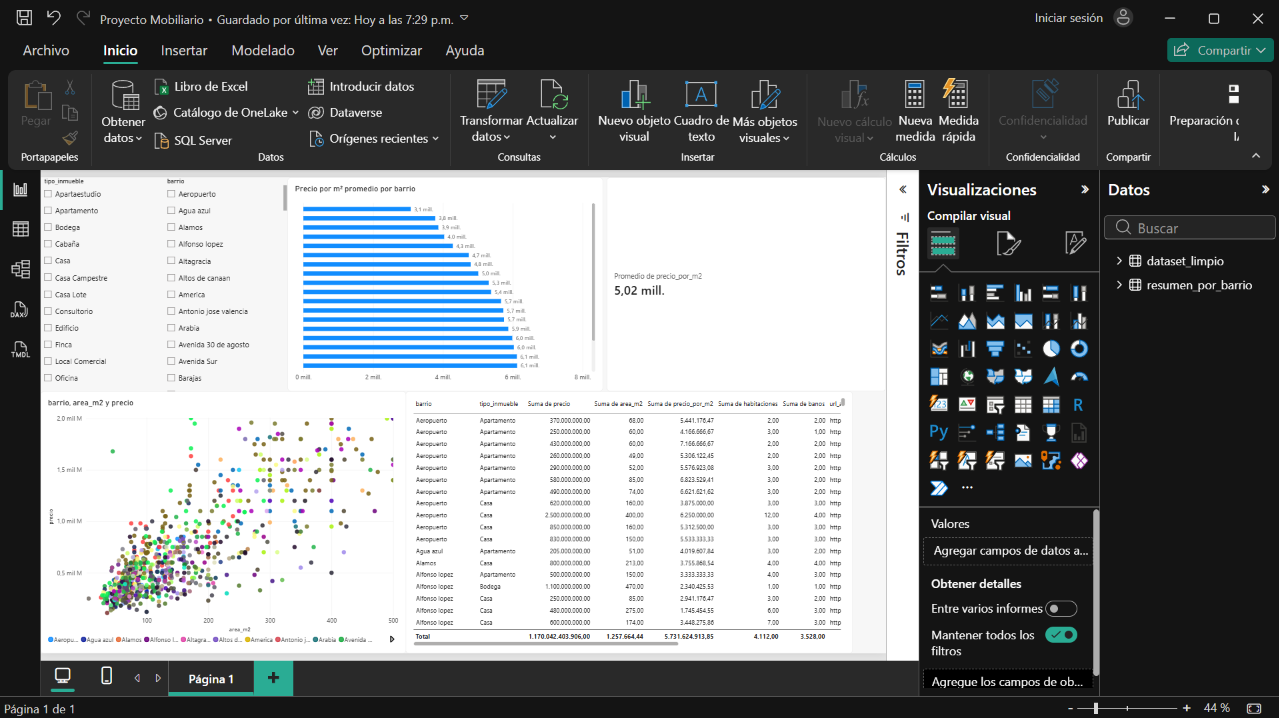

This screenshot's page, from the dashboard's own definition file:
{"tool":"powerbi","page":{"name":"Página 1","canvas":[1920,1080],"ordinal":0},"visuals":[{"type":"slicer","fields":{"Values":["dataset_limpio.tipo_inmueble"]},"box":[0,54.5,280,486],"z":0},{"type":"slicer","fields":{"Values":["dataset_limpio.barrio"]},"box":[274.8,54.5,280,486],"z":1000},{"type":"clusteredBarChart","title":"Precio por m² promedio por barrio","fields":{"Category":["resumen_por_barrio.barrio"],"Y":["Avg(resumen_por_barrio.precio_m2_promedio)"]},"box":[558.7,54.5,716,486],"z":2000},{"type":"tableEx","fields":{"Values":["dataset_limpio.barrio","dataset_limpio.tipo_inmueble","Sum(dataset_limpio.precio)","Sum(dataset_limpio.area_m2)","Sum(dataset_limpio.precio_por_m2)","Sum(dataset_limpio.habitaciones)","Sum(dataset_limpio.banos)","dataset_limpio.url_aviso"]},"box":[829,540.6,1015.3,538.3],"z":3000},{"type":"cardVisual","fields":{"Data":["Avg(dataset_limpio.precio_por_m2)"]},"box":[1285.6,54.5,634,486],"z":4000},{"type":"scatterChart","fields":{"Series":["dataset_limpio.barrio"],"X":["dataset_limpio.area_m2"],"Y":["dataset_limpio.precio"]},"box":[0,540.6,829,538.3],"z":5000},{"type":"textbox","box":[100,100,300,300],"z":5001},{"type":"textbox","box":[100,100,300,300],"z":5002},{"type":"textbox","box":[100,100,300,300],"z":5003},{"type":"textbox","title":"Análisis de precios de vivienda en Pereira, Risalralda","box":[554.2,0,1246.9,54.5],"z":5004}]}

Visuals, with their boxes on the page's 1920x1080 design canvas (x1, y1, x2, y2). These are canvas units, not pixel positions in the 1279x718 screenshot, which may show the page scaled, cropped or inside an application window:
slicer - dataset_limpio.tipo_inmueble: (left=0, top=54, right=280, bottom=540)
slicer - dataset_limpio.barrio: (left=275, top=54, right=555, bottom=540)
"Precio por m² promedio por barrio" clusteredBarChart: (left=559, top=54, right=1275, bottom=540)
tableEx - dataset_limpio.barrio x dataset_limpio.tipo_inmueble: (left=829, top=541, right=1844, bottom=1079)
cardVisual - Avg(dataset_limpio.precio_por_m2): (left=1286, top=54, right=1920, bottom=540)
scatterChart - dataset_limpio.barrio x dataset_limpio.area_m2: (left=0, top=541, right=829, bottom=1079)
textbox: (left=100, top=100, right=400, bottom=400)
textbox: (left=100, top=100, right=400, bottom=400)
textbox: (left=100, top=100, right=400, bottom=400)
"Análisis de precios de vivienda en Pereira, Risalralda" textbox: (left=554, top=0, right=1801, bottom=54)
